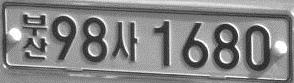0: (245, 24, 270, 71)
1: (153, 20, 178, 66)
6: (182, 22, 208, 68)
8: (212, 23, 239, 70), (81, 16, 107, 62)
9: (50, 15, 76, 60)
부산_V: (22, 13, 47, 59)
사: (111, 21, 137, 62)
